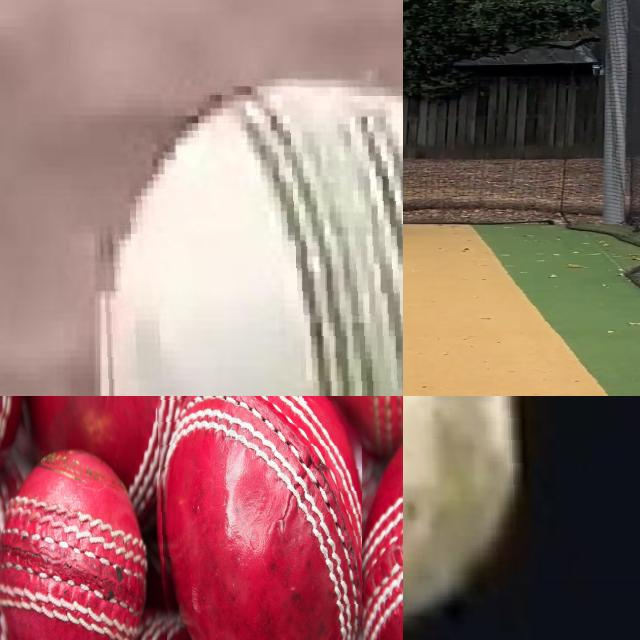Cricket ball: (95, 75, 403, 396), (154, 396, 361, 640), (403, 396, 530, 640), (0, 436, 149, 640)
